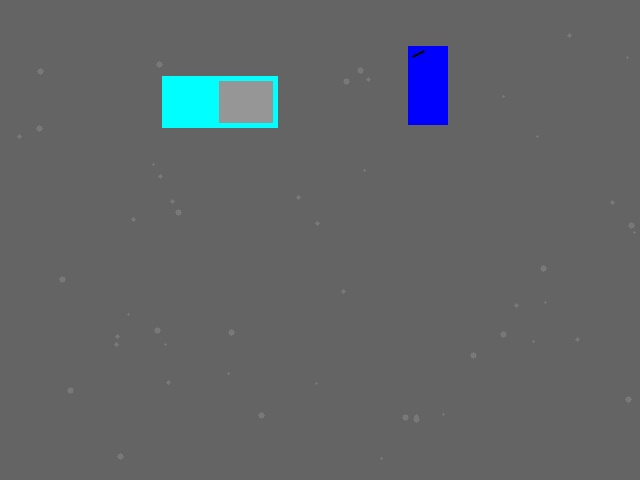motorcycle: (408, 46, 447, 124)
truck: (162, 76, 277, 127)
